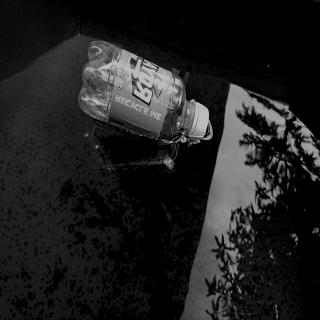bottle: (76, 36, 212, 148)
